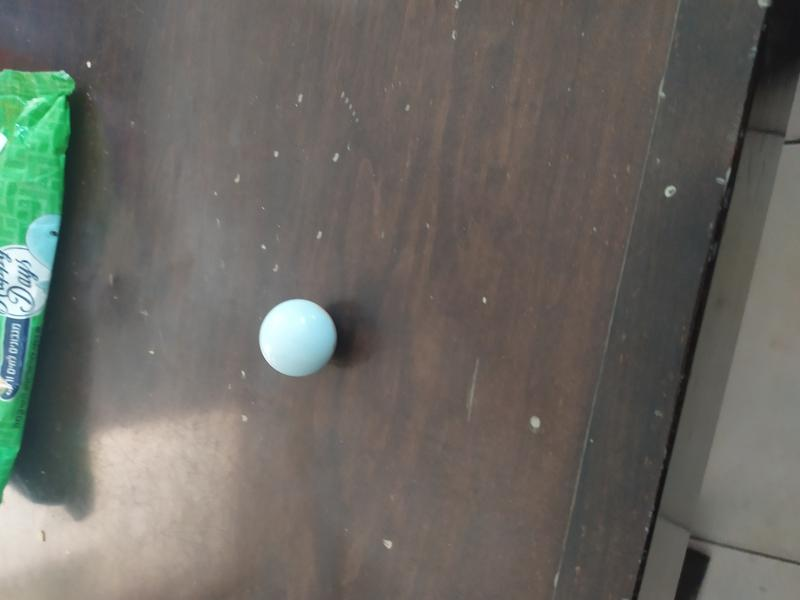Warning: (257, 297, 342, 381)
